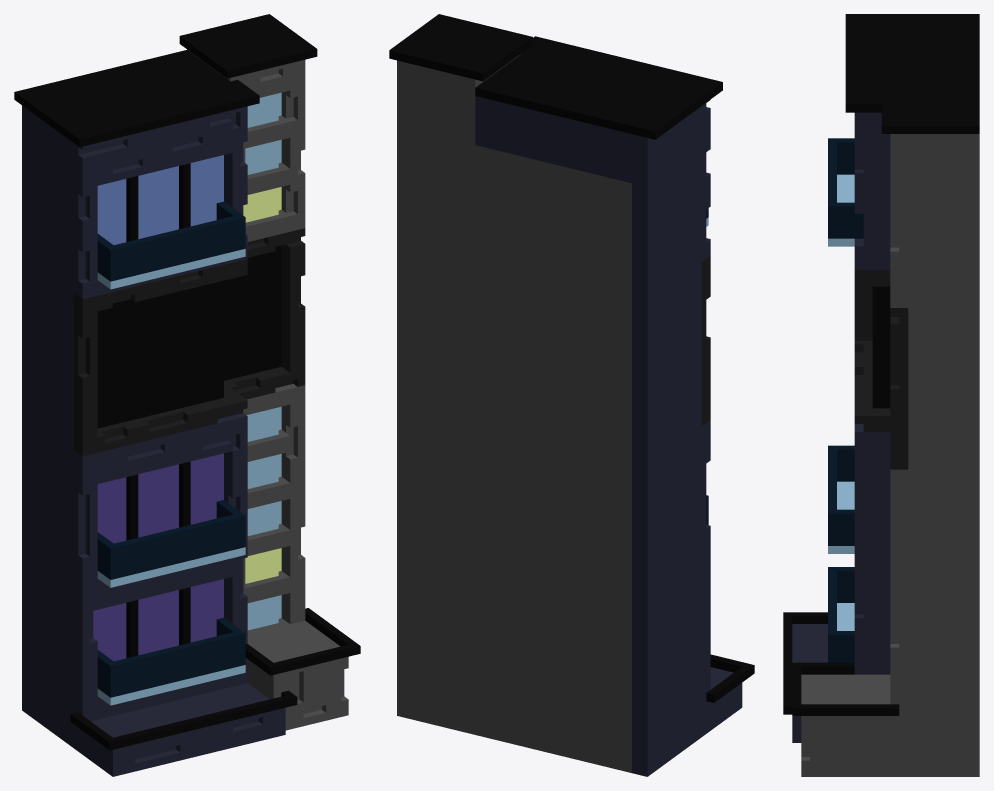
Rendered from Building.obj.
3 renders of one model, left to right at view 1: azimuth 30°, elevation 25°; view 2: azimuth 150°, elevation 25°; view 3: azimuth 270°, elevation 25°, orthographic. The views are drawn at different scales.
Size of the model in its own units: 3.4 by 8.1 by 2.2.
1 material, 1 textured.
